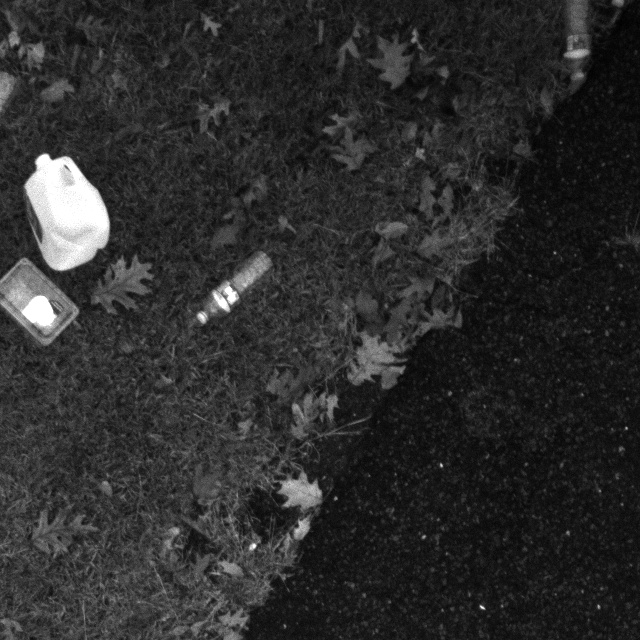bottle: (198, 250, 276, 327), (558, 0, 598, 89)
can: (8, 142, 115, 280)
container: (0, 250, 88, 355)
